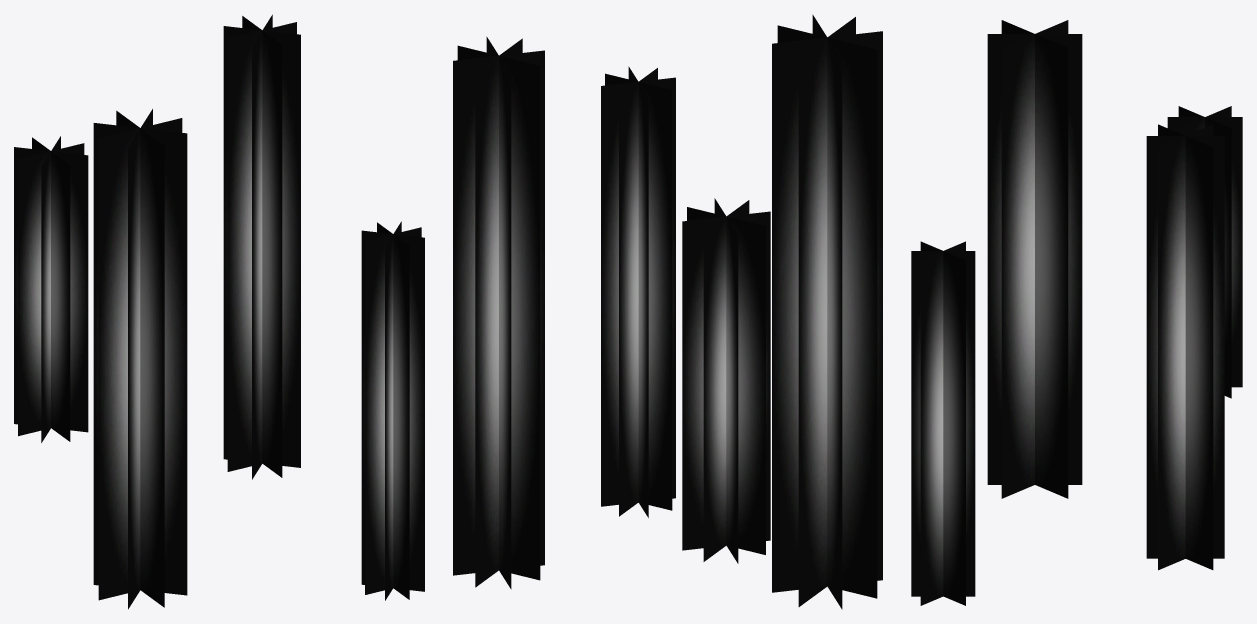
Rendered from vfx_kurp_0148.dae.
3 views of the same model, side by side, from view 1: azimuth 30°, elevation 25°; view 2: azimuth 150°, elevation 25°; view 3: azimuth 270°, elevation 25° (orthographic). The views are drawn at different scales.
Parts seen in each view (by area): view 1: vfx_kurp_0148; view 2: vfx_kurp_0148; view 3: vfx_kurp_0148.
Part boxes in pixels (left/top/right/bottom): vfx_kurp_0148: left=14, top=14, right=424, bottom=609; vfx_kurp_0148: left=453, top=14, right=882, bottom=609; vfx_kurp_0148: left=911, top=20, right=1242, bottom=605.
Size of the model in its own units: 7.78 by 8.28 by 12.82.
1 material, 1 textured.
